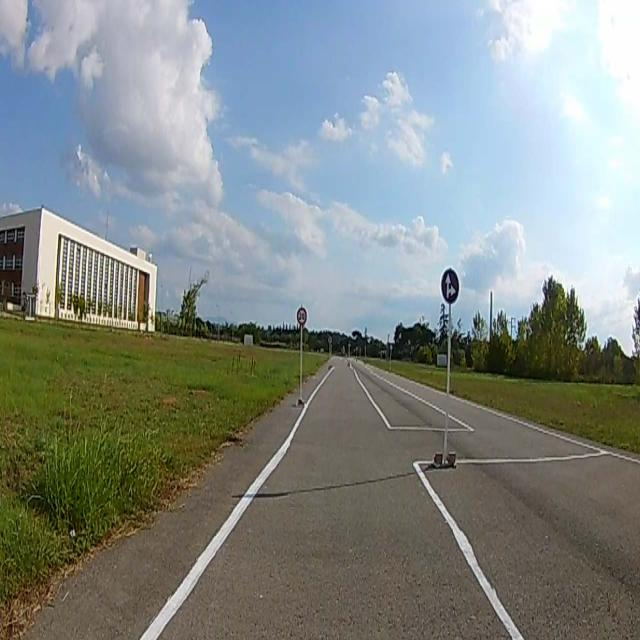20: (298, 308, 306, 324)
ilerisag: (439, 270, 458, 303)
